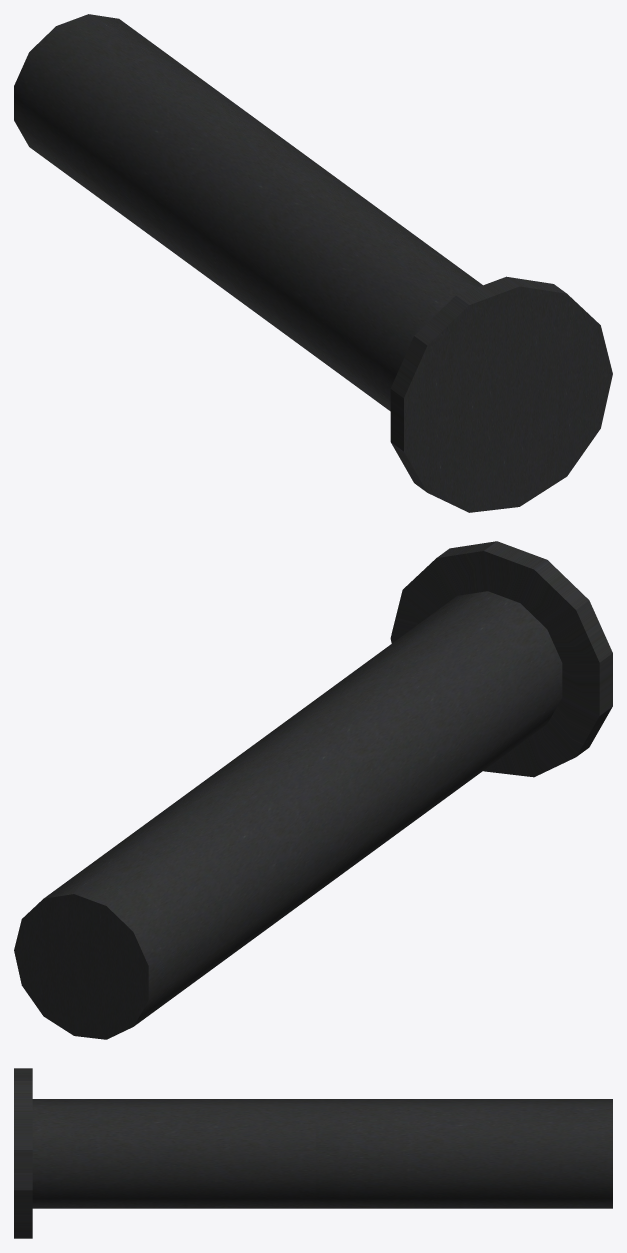
Rendered from Takedown_Pin.dae.
The picture shows the model from 3 angles, top to bottom: view 1: azimuth 30°, elevation 25°; view 2: azimuth 150°, elevation 25°; view 3: azimuth 270°, elevation 25°; orthographic projection. The views are drawn at different scales.
Parts seen in each view (by area): view 1: Takedown_Pin; view 2: Takedown_Pin; view 3: Takedown_Pin.
Part boxes in pixels (bbox=[...]): Takedown_Pin: bbox=[14, 14, 612, 512]; Takedown_Pin: bbox=[14, 541, 612, 1039]; Takedown_Pin: bbox=[14, 1068, 612, 1238].
Size of the model in its own units: 0.00912 by 0.0322 by 0.00918.
Materials: 1 (1 with a texture image).
